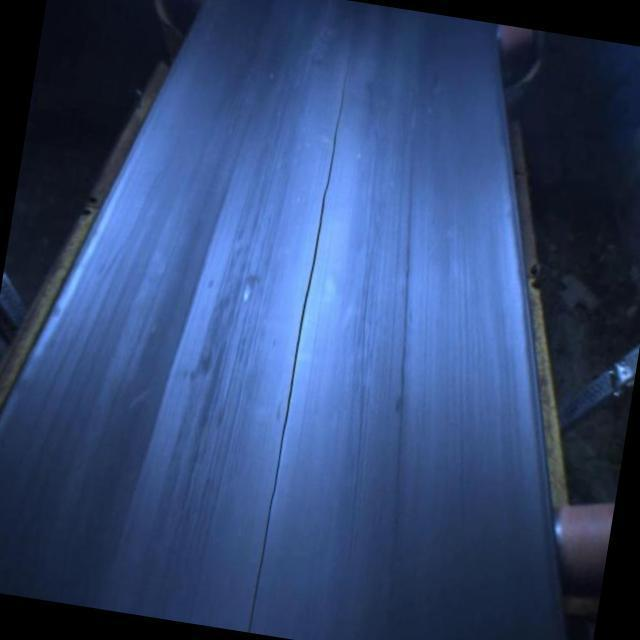Tear: (234, 51, 368, 640)
